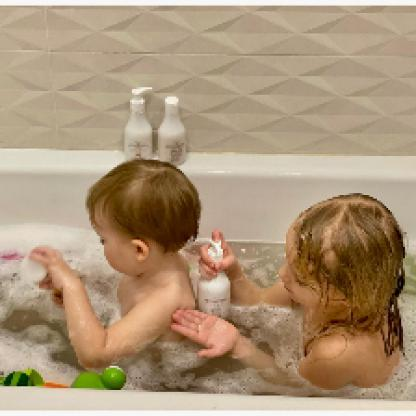child: (171, 194, 407, 391), (27, 160, 204, 372)
